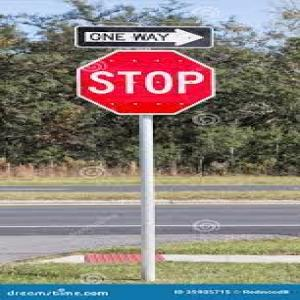STOP: (69, 48, 227, 119)
